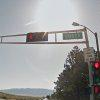Traffic light: (83, 52, 100, 100)
